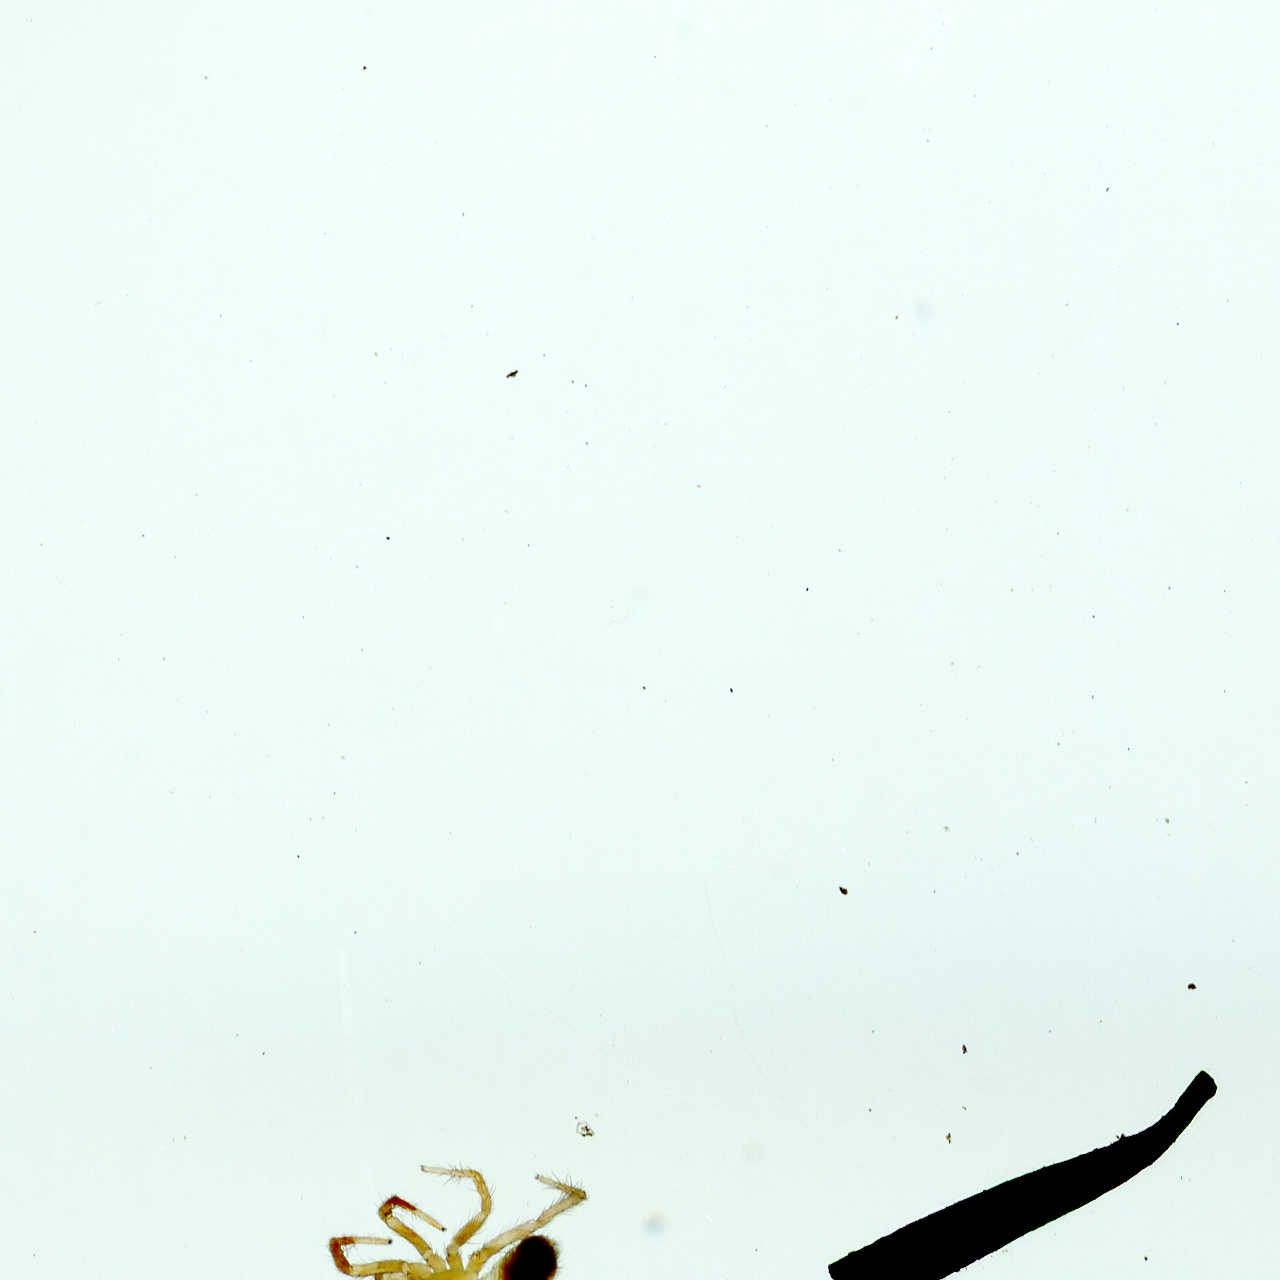arthropod: (323, 1159, 654, 1280)
